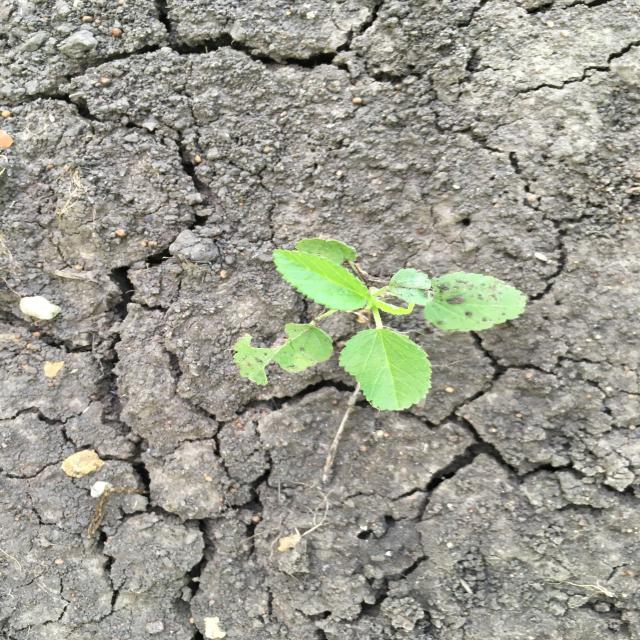PricklySida: (230, 236, 530, 414)
